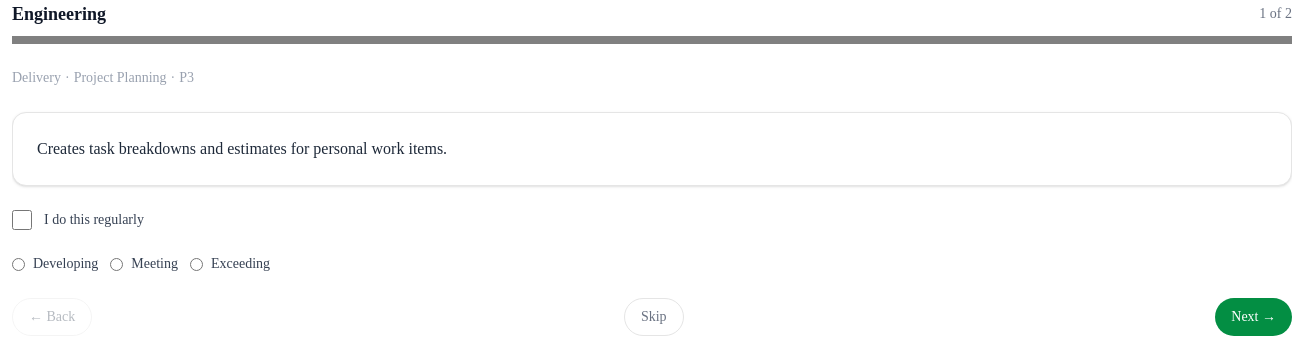
B-6: Completion screen shows heading and CTAs after last criterion › shows "Workshop complete" heading and result/domain links after advancing past last criterion
What coordinates should you click on to do the following:
click the button "Next →"
I would click on:
 (1254, 317)
Its box is top-left (1215, 298), bottom-right (1292, 336).
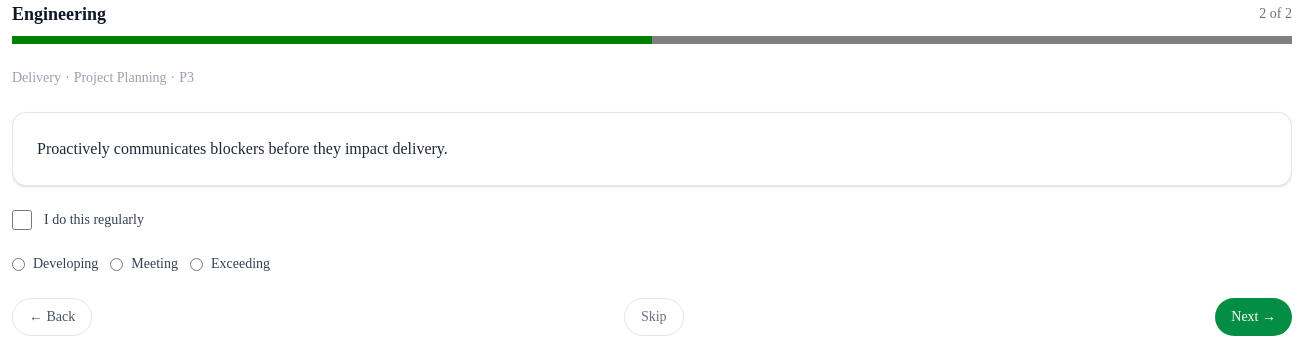
What coordinates should you click on to do the following:
click the button "Next →"
I would click on:
 (1254, 317)
Its box is top-left (1215, 298), bottom-right (1292, 336).
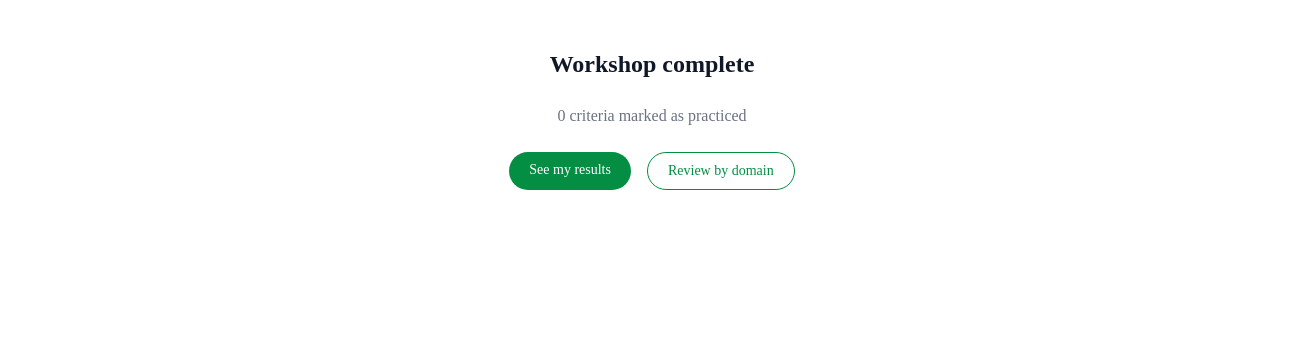
expect the heading "Workshop complete" is shown: met, box top-left (550, 48), bottom-right (754, 80)
expect the link "See my results" is shown: met, box top-left (509, 152), bottom-right (631, 190)
expect the link "Review by domain" is shown: met, box top-left (647, 152), bottom-right (795, 190)
